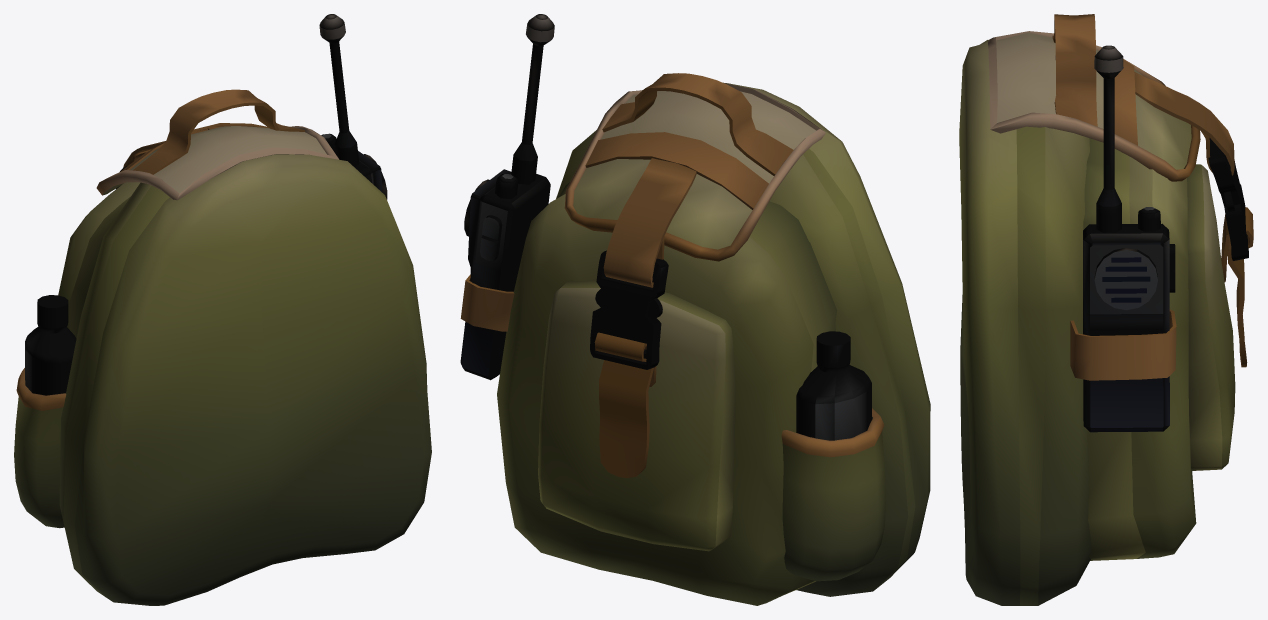
Rendered from BTLMN_Outfits_Tier_MP_Backpack.glb.
3 renders of one model, left to right at view 1: azimuth 30°, elevation 25°; view 2: azimuth 150°, elevation 25°; view 3: azimuth 270°, elevation 25°, orthographic. The views are drawn at different scales.
Visible parts, largest first — view 1: Back_Tactical_Backpack_MA01, Back_Tactical_Backpack_MA01.001; view 2: Back_Tactical_Backpack_MA01, Back_Tactical_Backpack_MA01.001; view 3: Back_Tactical_Backpack_MA01, Back_Tactical_Backpack_MA01.001.
Part boxes in pixels (x1,y1,x2,y2): Back_Tactical_Backpack_MA01: (14,89,431,605); Back_Tactical_Backpack_MA01.001: (25,14,387,395); Back_Tactical_Backpack_MA01: (460,73,930,605); Back_Tactical_Backpack_MA01.001: (460,14,871,440); Back_Tactical_Backpack_MA01: (959,14,1253,605); Back_Tactical_Backpack_MA01.001: (1083,45,1248,432).
Bounding box in the file's own units: 79.42 × 104 × 49.37.
